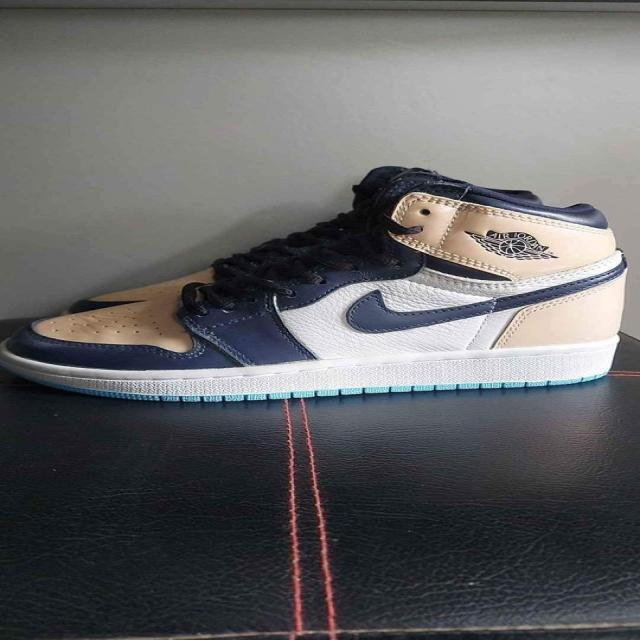nike fake jordan 1: (0, 173, 628, 404)
